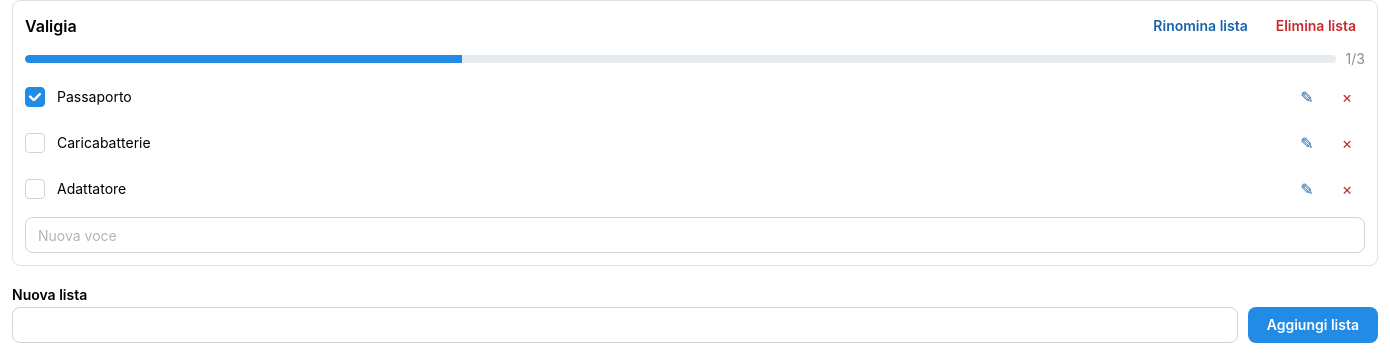
Scenario: toggling sends PATCH and updates optimistically
Click the checkbox labelled "Caricabatterie" at (35, 143), box [25,133,45,153]
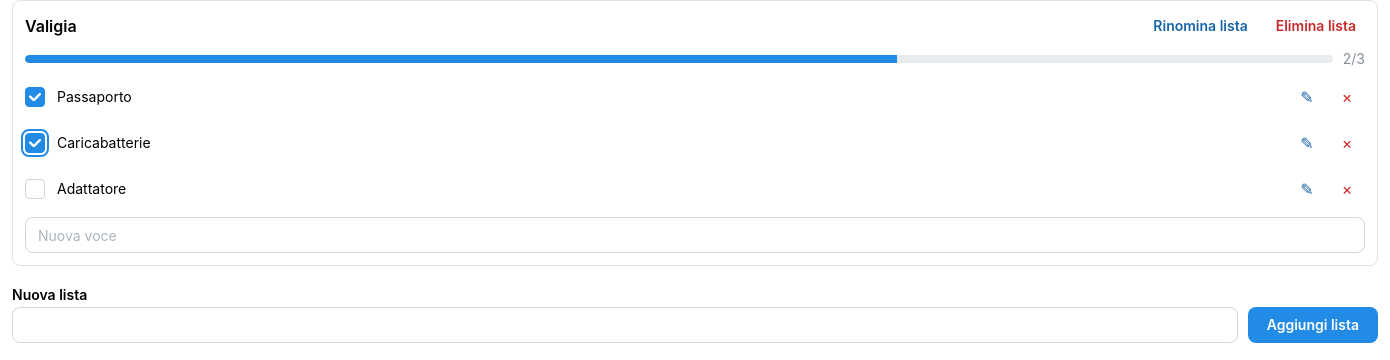
Result: the checkbox labelled "Caricabatterie" is checked at [25,133,45,153]
Result: the text "2/3" is shown at [1343,49,1365,69]
